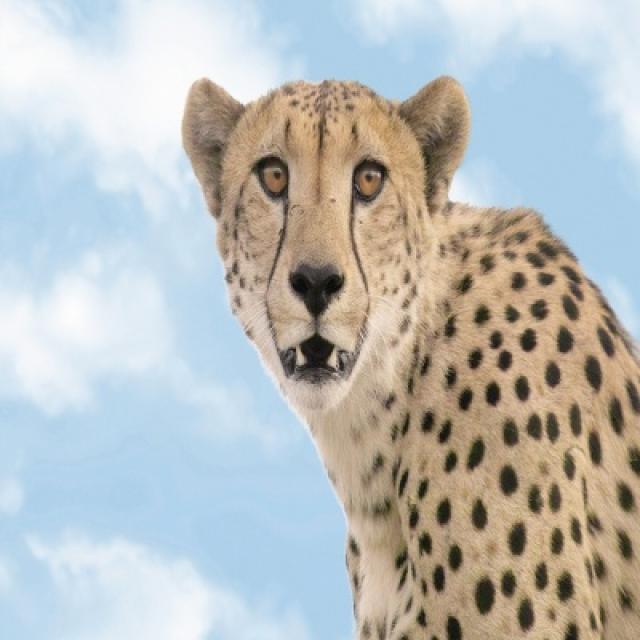Cheetah: (181, 75, 638, 638)
